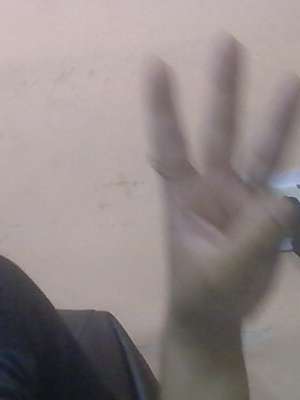W: (135, 21, 300, 338)
